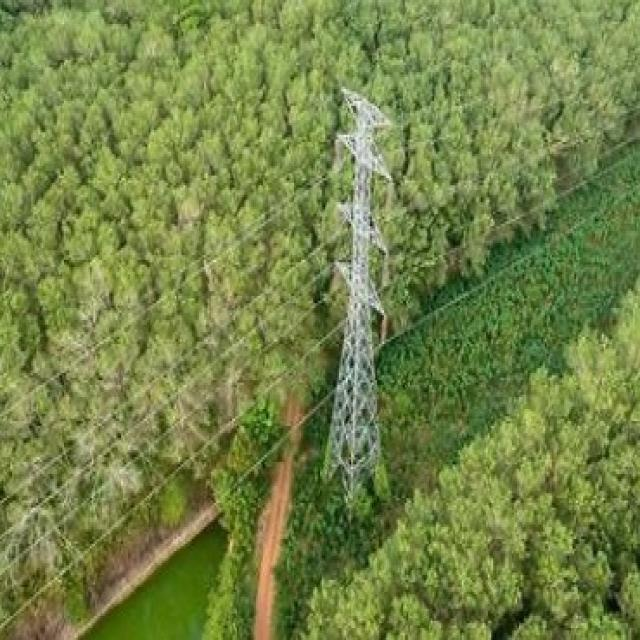utility poles: (323, 70, 397, 508)
